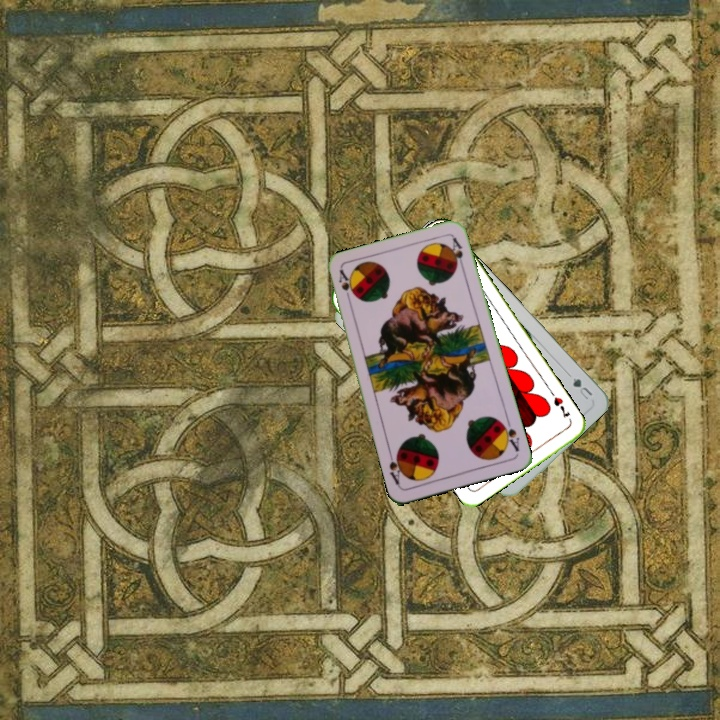GU: (569, 373, 595, 402)
H7: (550, 393, 572, 421)
SA: (496, 415, 522, 454), (335, 266, 354, 307)
